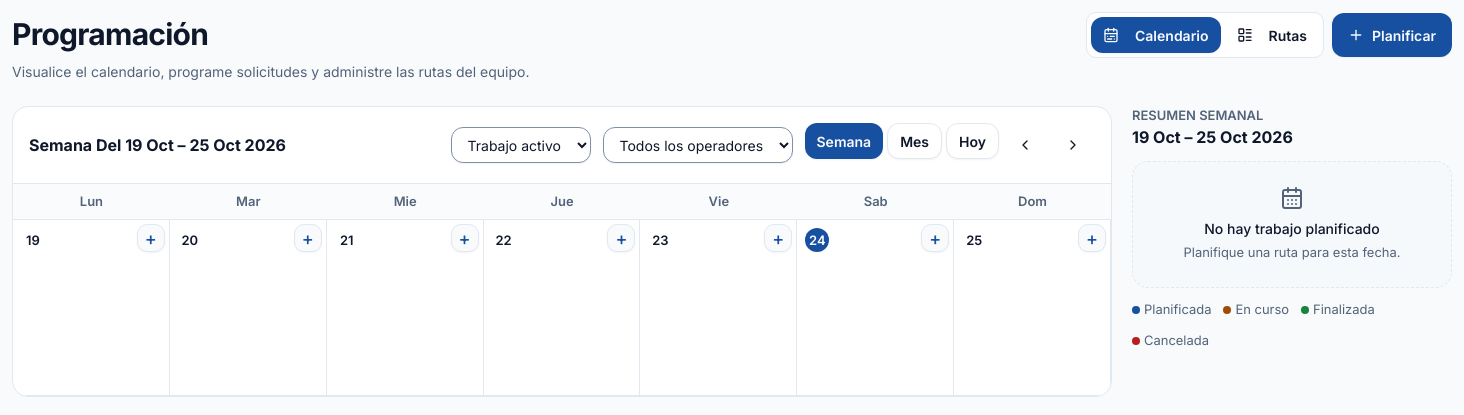
ProgramacionPage — toggle Calendario/Listado (usabilidad: un solo lugar para ambos) › alternar a Rutas cambia el contenido visible al listado de tarjetas
Expected: the text "No hay trabajo planificado" is shown, [1204, 220, 1380, 237]
Click the button "Rutas".
click(1272, 35)  # box [1224, 17, 1319, 53]
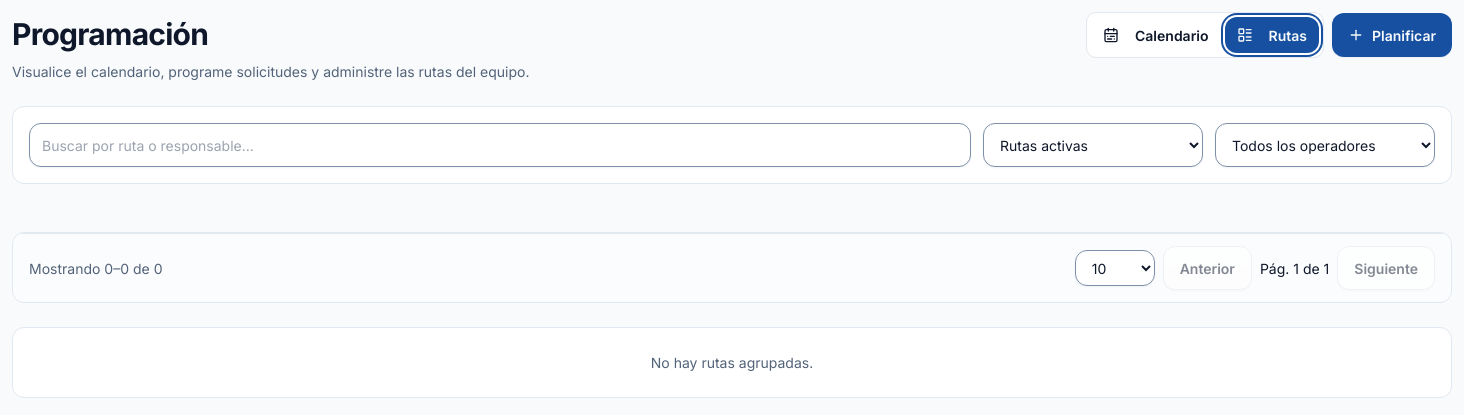
Result: the text "No hay rutas agrupadas." is shown at [12, 327, 1452, 398]
Result: the text "No hay trabajo planificado" is gone
Result: the search field with placeholder "Buscar por ruta o responsable…" is shown at [29, 123, 971, 167]
